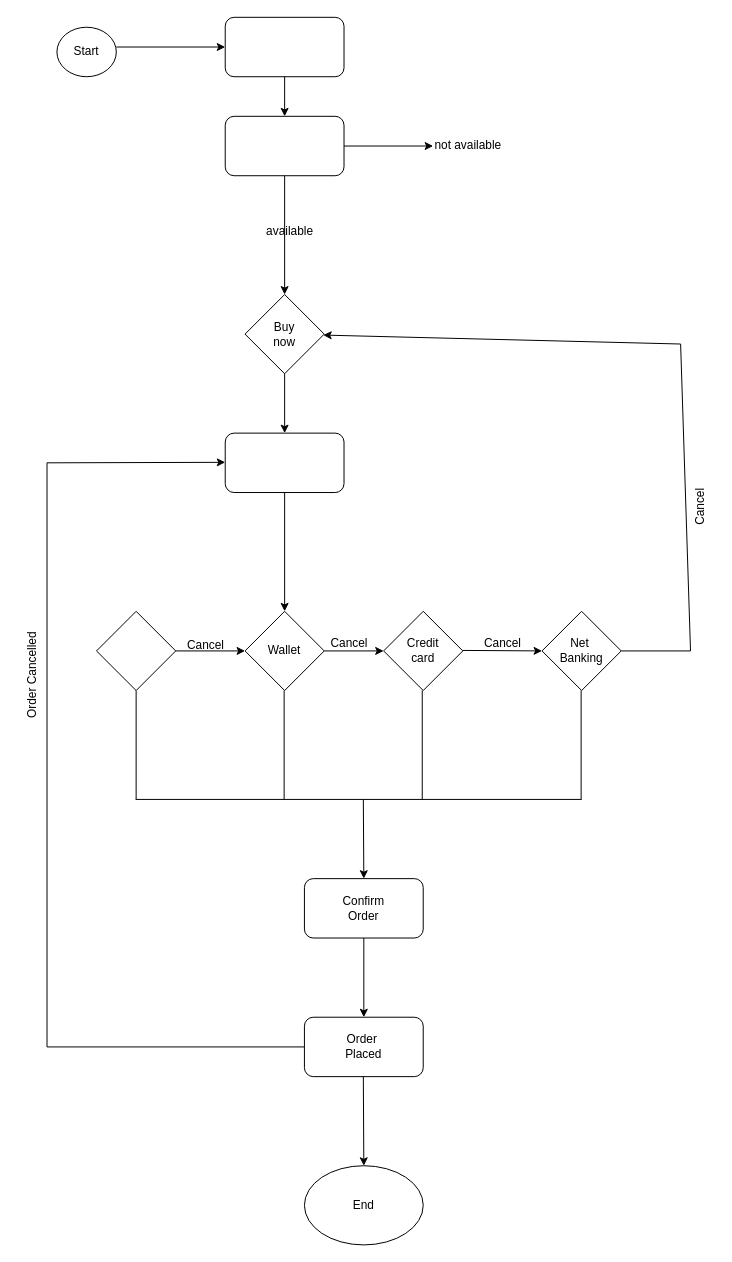
Image size: 732x1262. Some labels were removed from this diagram. The box of each missing label's shape, as (x1, y1, x2, y2) in pixels:
Login w/s: (224, 16, 344, 77)
payment option: (224, 432, 344, 493)
Upi: (96, 610, 176, 691)
View product [ book ]: (224, 115, 344, 176)
